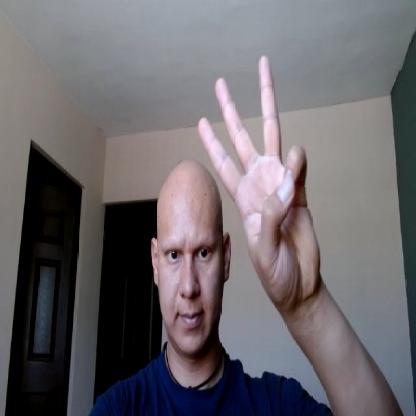W: (196, 52, 322, 308)
